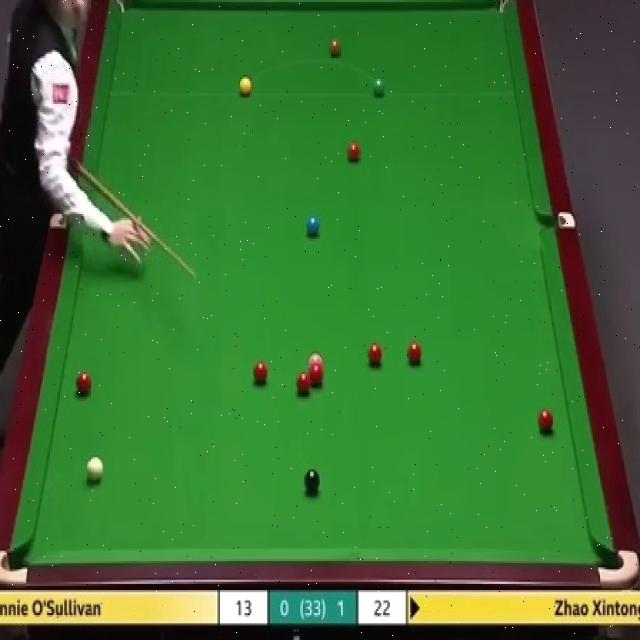black-ball: (305, 469, 321, 494)
blue-ball: (304, 214, 320, 237)
brown-ball: (329, 37, 342, 58)
green-ball: (371, 76, 385, 98)
pink-ball: (306, 354, 323, 368)
red-ball: (252, 358, 270, 386), (366, 342, 384, 369), (74, 371, 92, 396), (538, 407, 554, 434), (295, 373, 311, 397), (407, 341, 423, 364), (308, 365, 324, 386), (346, 141, 361, 163)
white-ball: (86, 456, 104, 483)
yellow-ball: (238, 75, 252, 96)
